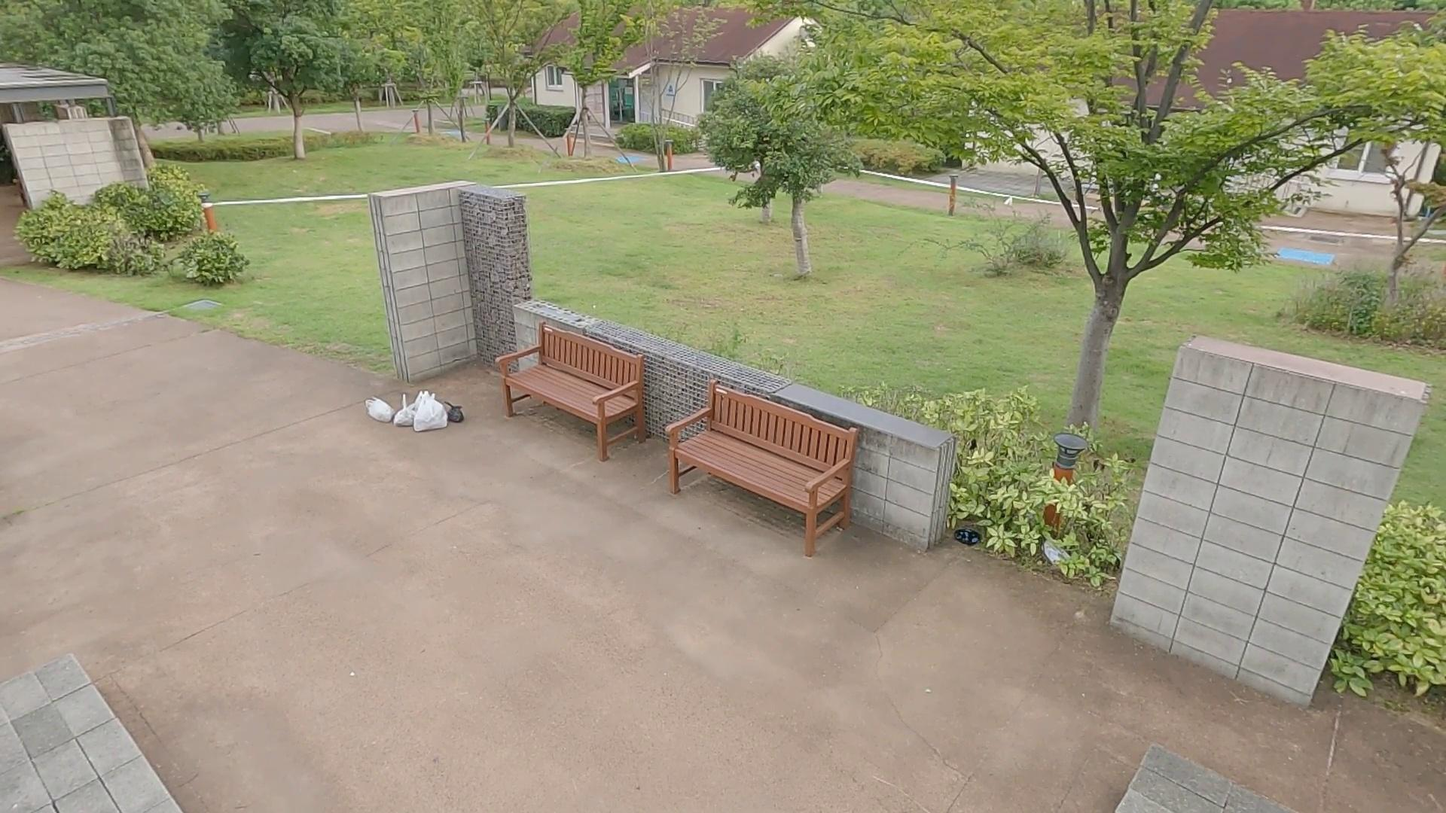trash: (413, 389, 449, 434), (1035, 535, 1073, 569), (388, 393, 421, 427), (359, 394, 395, 424), (437, 394, 468, 427), (954, 524, 982, 550)
